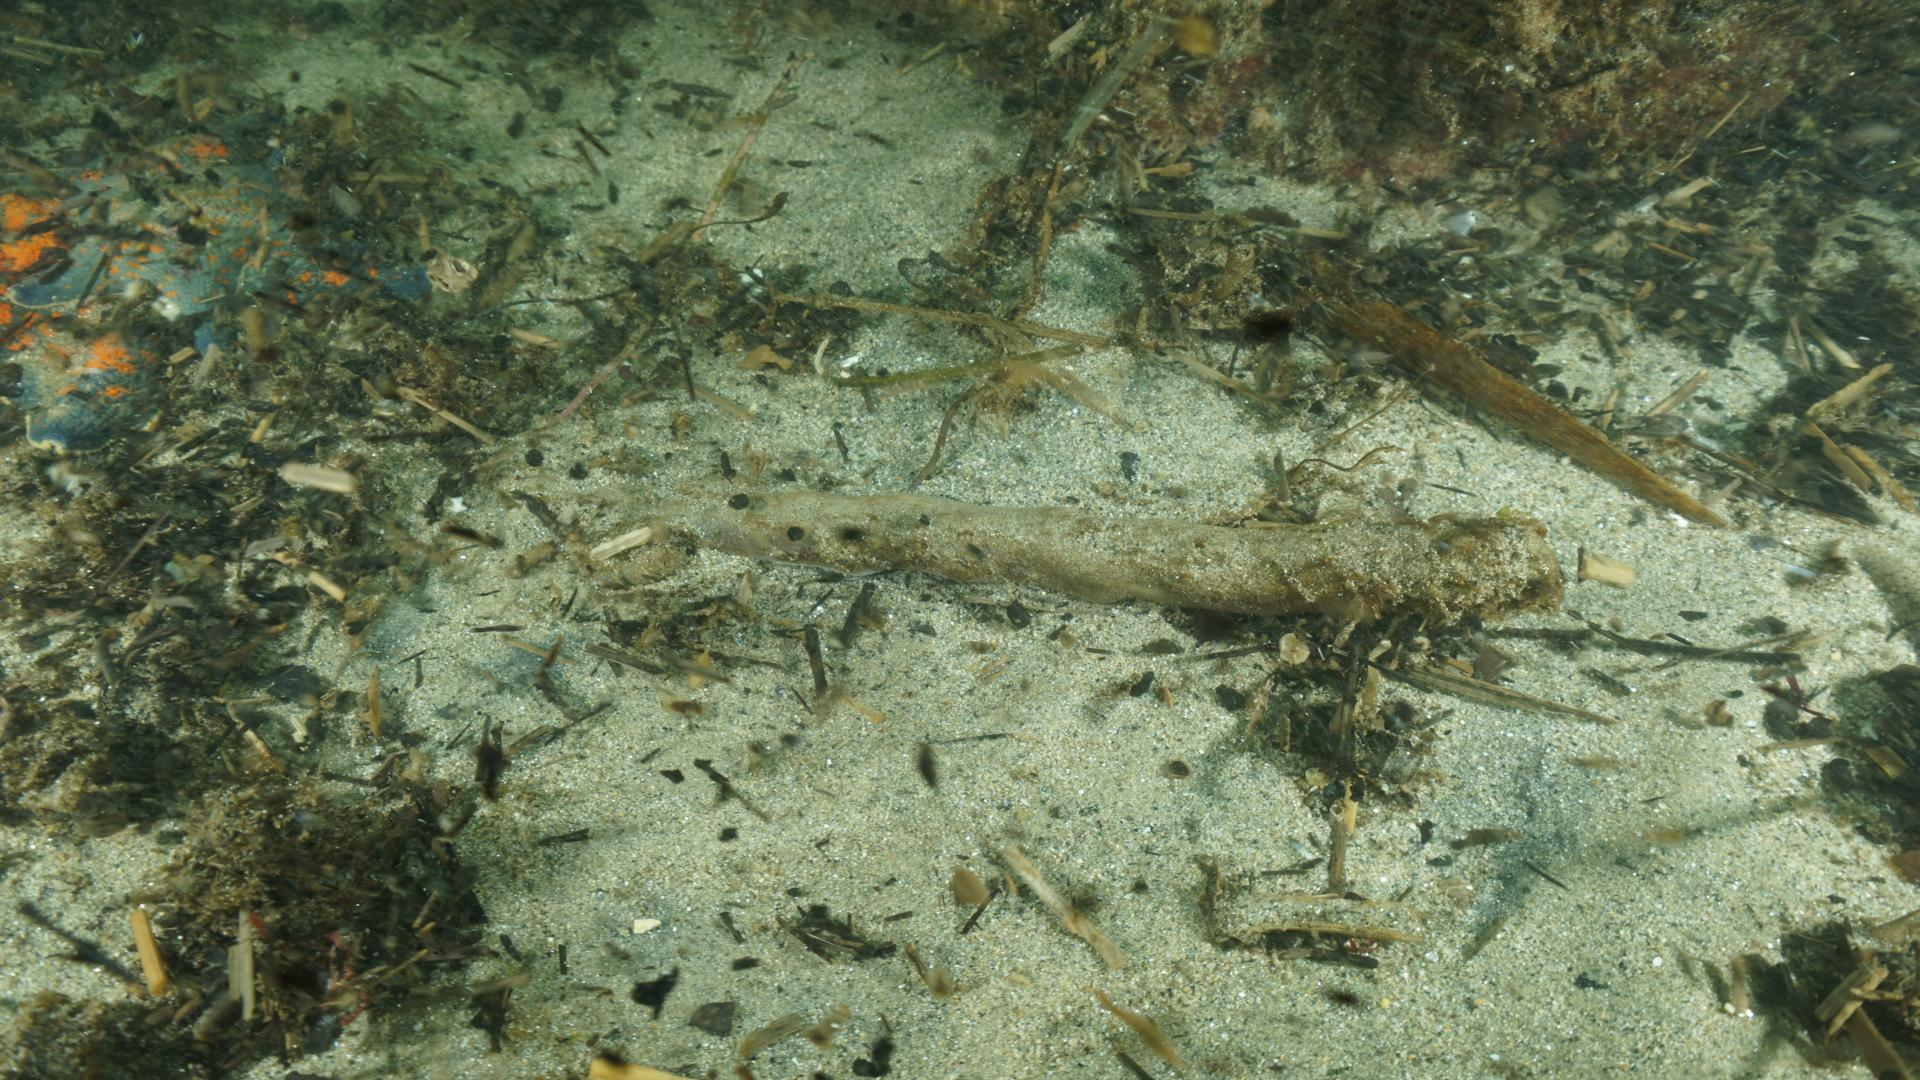wood: (612, 483, 1569, 615)
